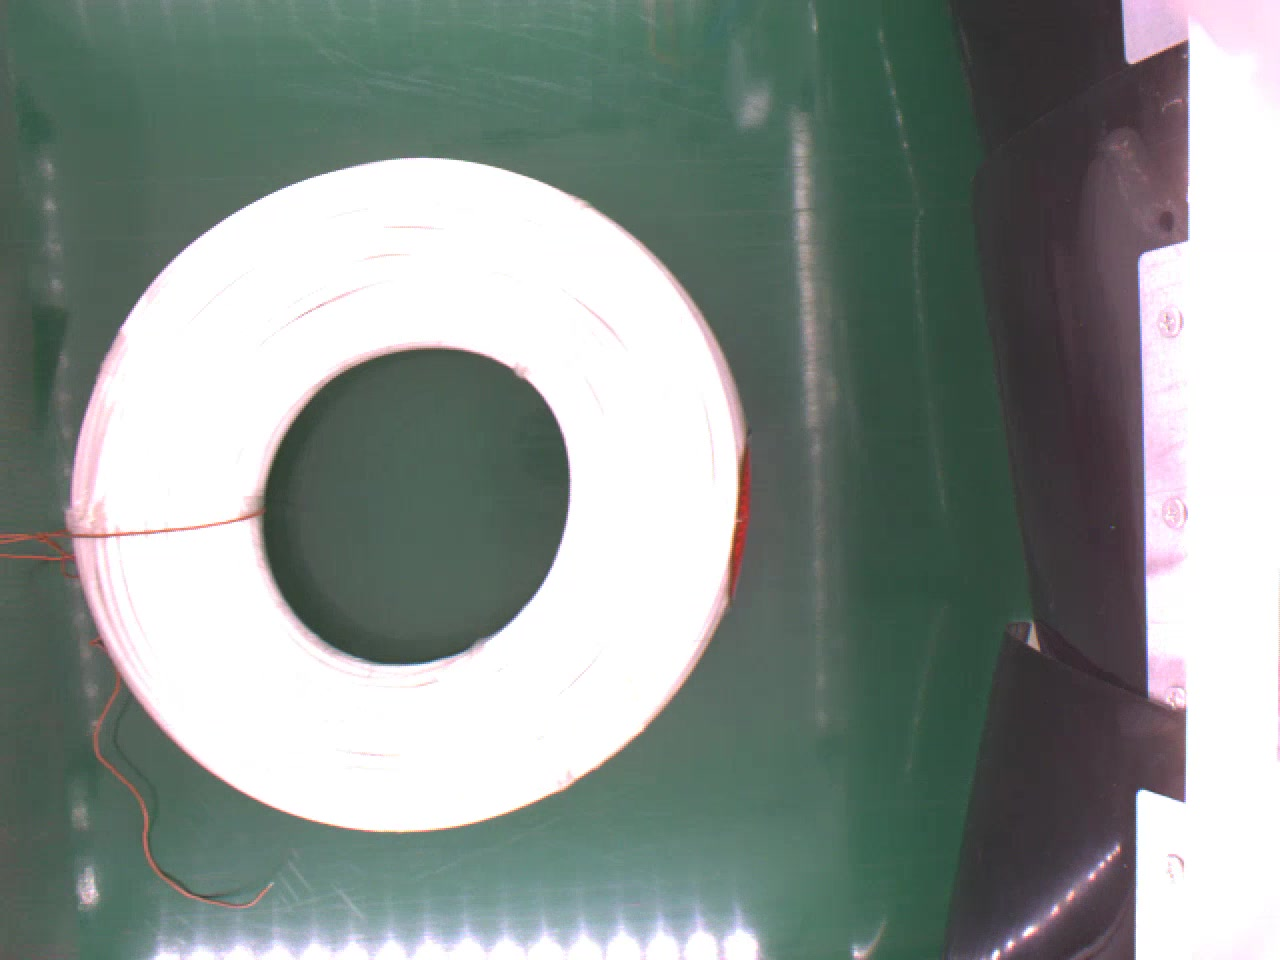white: (68, 157, 746, 828)
